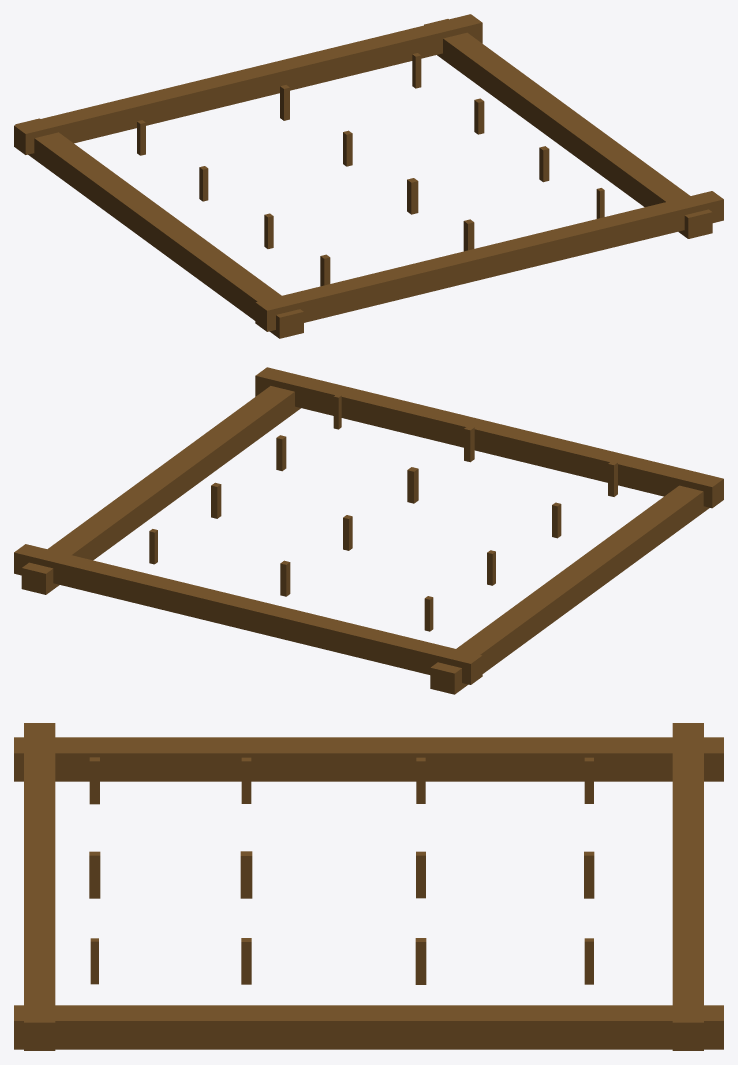
File: orchard.fbx
3 views of the same model, one above another, from view 1: azimuth 30°, elevation 25°; view 2: azimuth 150°, elevation 25°; view 3: azimuth 270°, elevation 25° (orthographic). The views are drawn at different scales.
Parts seen in each view (by area): view 1: polySurface12; view 2: polySurface12; view 3: polySurface12.
Part boxes in pixels (left/top/right/bottom): polySurface12: left=14, top=14, right=723, bottom=338; polySurface12: left=14, top=367, right=723, bottom=694; polySurface12: left=14, top=723, right=723, bottom=1050.
Bounding box in the file's own units: 199 × 17.38 × 200.
Materials: 1 (1 with a texture image).
